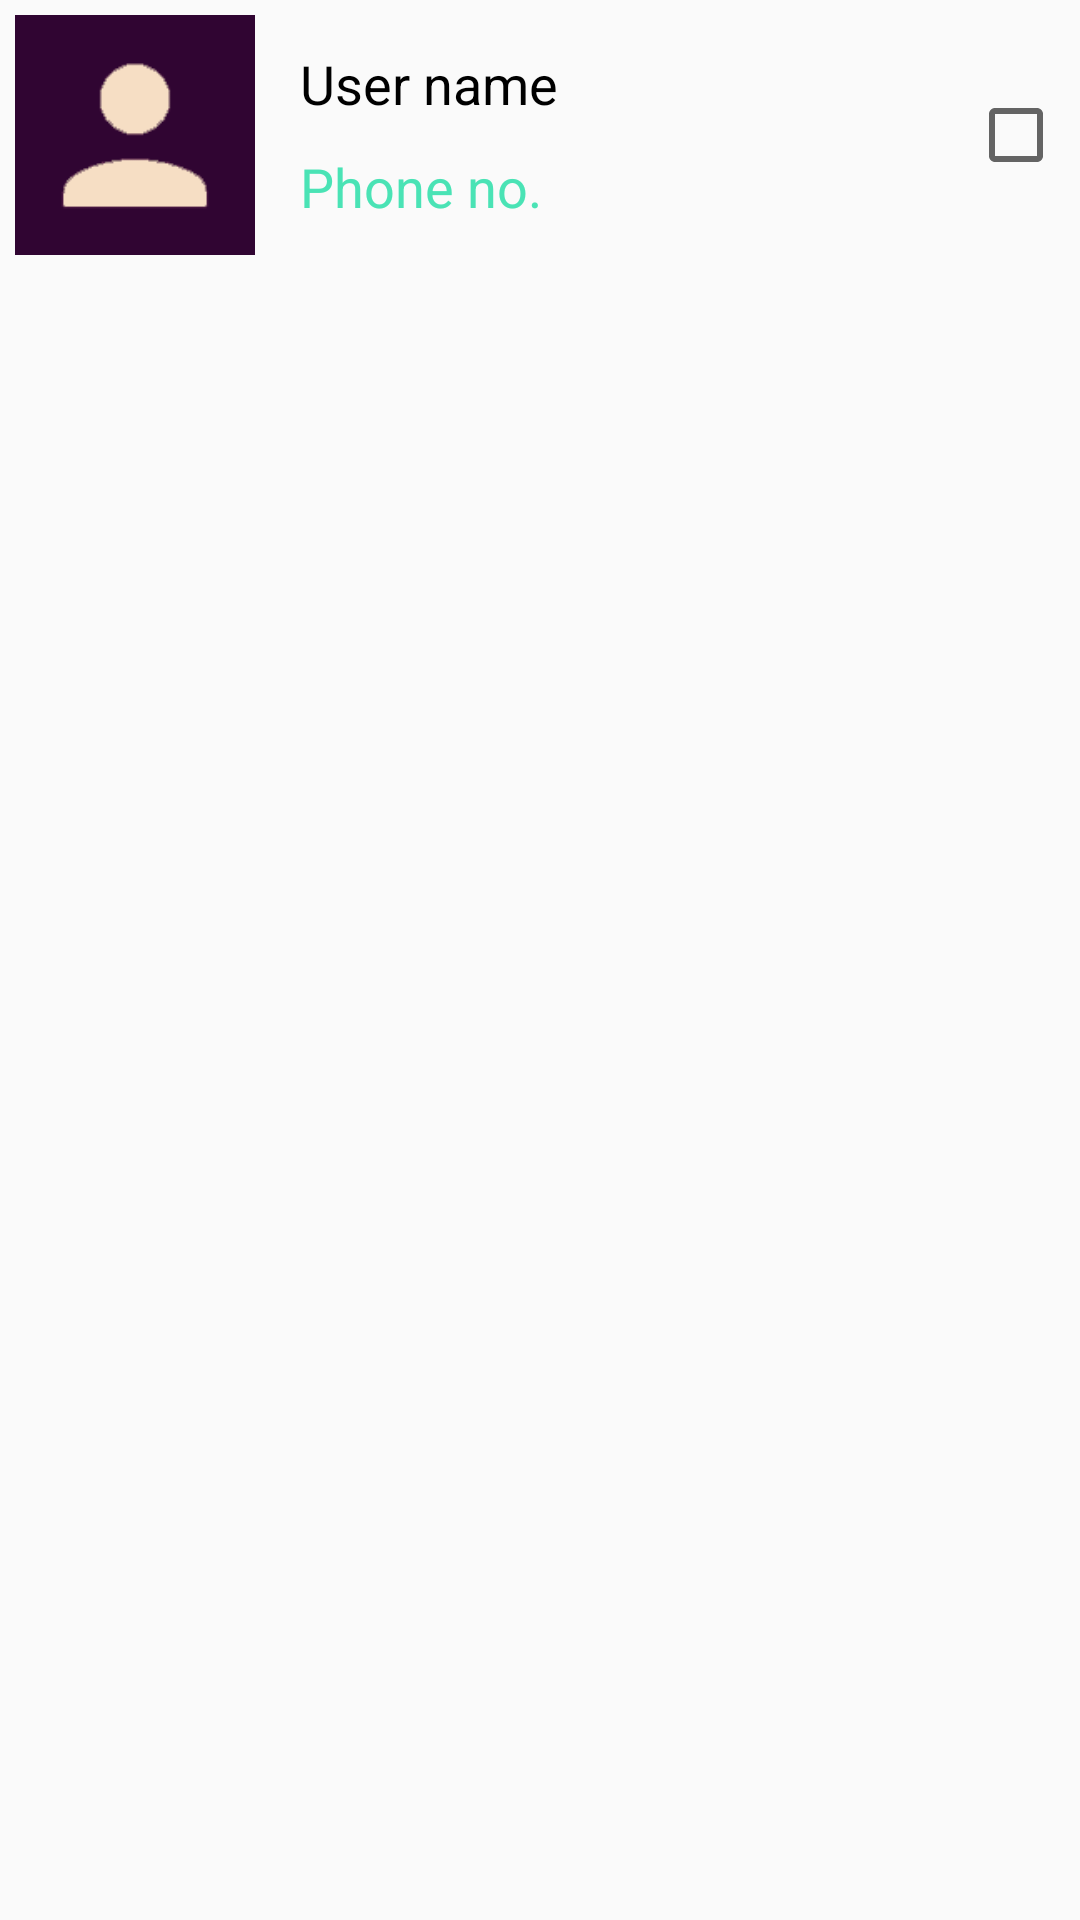

Named icons in this screenshot (1080*1920) and their bounding boxes, [x1,y1,x2,y2]:
contact: [15,15,255,255]
